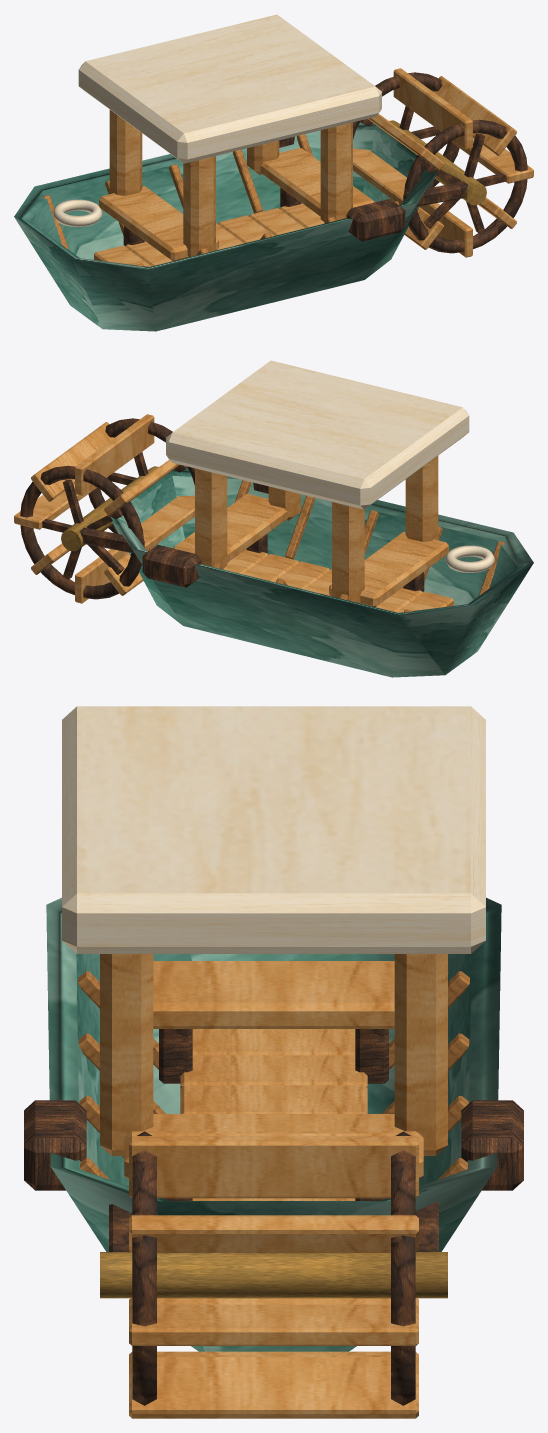
File: revised-06-04.glb
The picture shows the model from 3 angles, top to bottom: view 1: azimuth 30°, elevation 25°; view 2: azimuth 150°, elevation 25°; view 3: azimuth 270°, elevation 25°; orthographic projection. The views are drawn at different scales.
Visible parts, largest first — view 1: folded_ferry; view 2: folded_ferry; view 3: folded_ferry.
Part boxes in pixels (left/top/right/bottom): folded_ferry: left=14, top=14, right=533, bottom=331; folded_ferry: left=14, top=360, right=533, bottom=677; folded_ferry: left=24, top=706, right=523, bottom=1418.
Bounding box in the file's own units: 2.36 × 1.03 × 1.12.
Materials: 2 (2 with a texture image).
